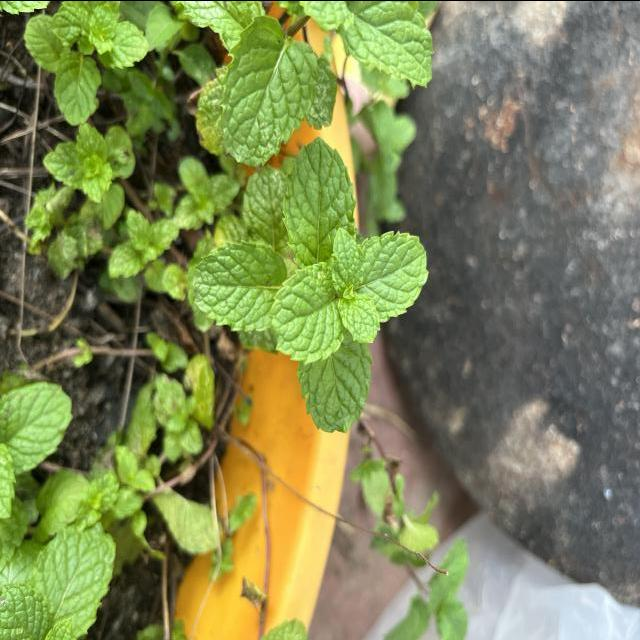Mentha spicata: (218, 14, 320, 167), (280, 134, 358, 266), (192, 239, 286, 333), (268, 259, 346, 365), (296, 340, 374, 434), (364, 228, 429, 322), (330, 225, 364, 294), (337, 292, 381, 344)
